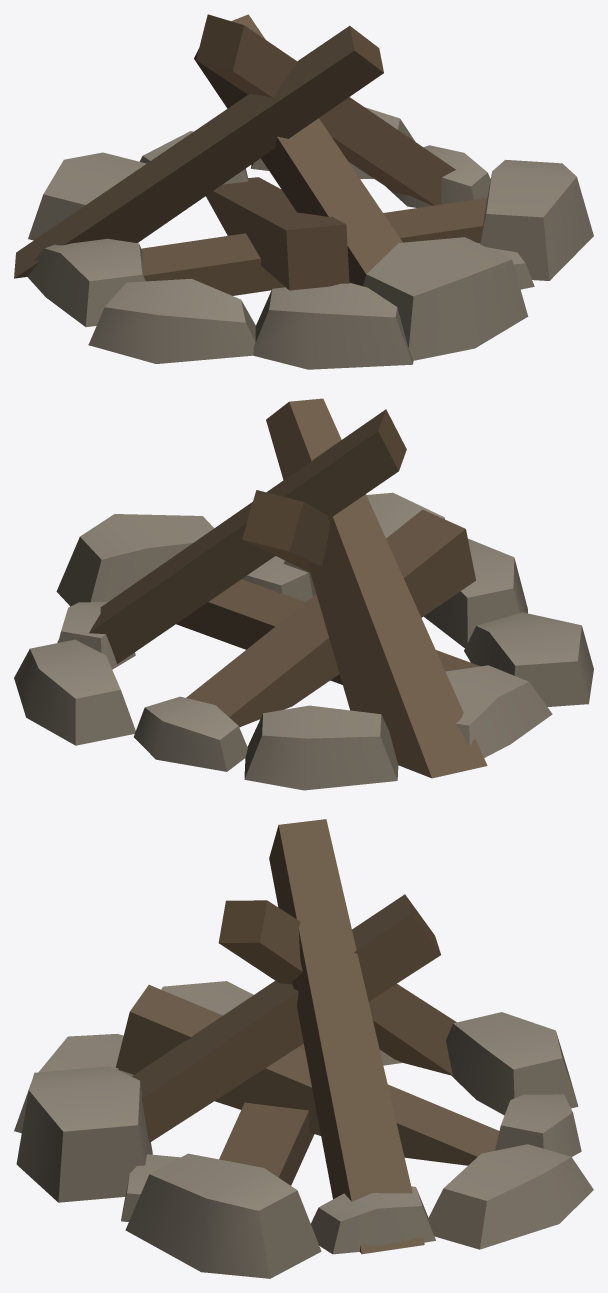
The model's file is feu.fbx.
The picture shows the model from 3 angles, top to bottom: view 1: azimuth 30°, elevation 25°; view 2: azimuth 150°, elevation 25°; view 3: azimuth 270°, elevation 25°; orthographic projection. The views are drawn at different scales.
Visible parts, largest first — view 1: feuu; view 2: feuu; view 3: feuu.
Boxes of the visible parts, <box> form: feuu: <box>14,14,593,369</box>; feuu: <box>14,398,593,790</box>; feuu: <box>14,819,593,1278</box>.
Size of the model in its own units: 2.36 by 1.17 by 2.18.
